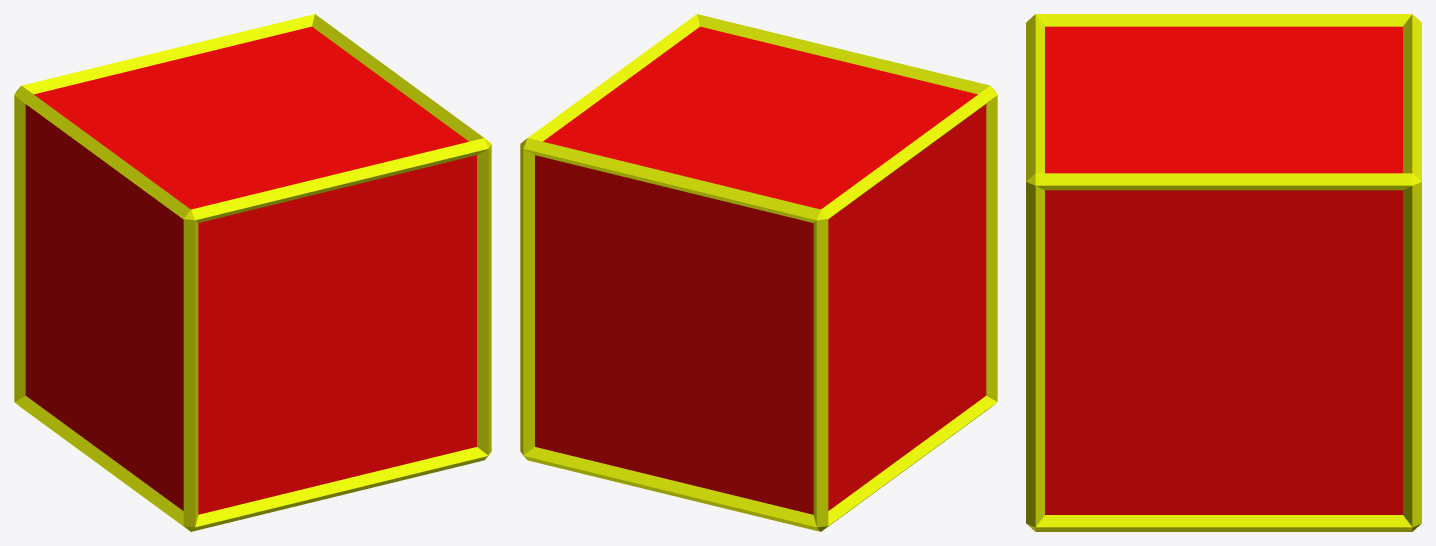
File: cubo_aristas.glb
3 views of the same model, side by side, from view 1: azimuth 30°, elevation 25°; view 2: azimuth 150°, elevation 25°; view 3: azimuth 270°, elevation 25° (orthographic). The views are drawn at different scales.
Visible parts, largest first — view 1: cubo, aristas; view 2: cubo, aristas; view 3: cubo, aristas.
Part boxes in pixels (bbox=[...]): cubo: bbox=[25, 26, 476, 514]; aristas: bbox=[14, 14, 491, 531]; cubo: bbox=[535, 26, 986, 514]; aristas: bbox=[520, 14, 997, 531]; cubo: bbox=[1045, 26, 1402, 514]; aristas: bbox=[1026, 14, 1421, 531].
Bounding box in the file's own units: 0.5334 × 0.5334 × 0.5334.
